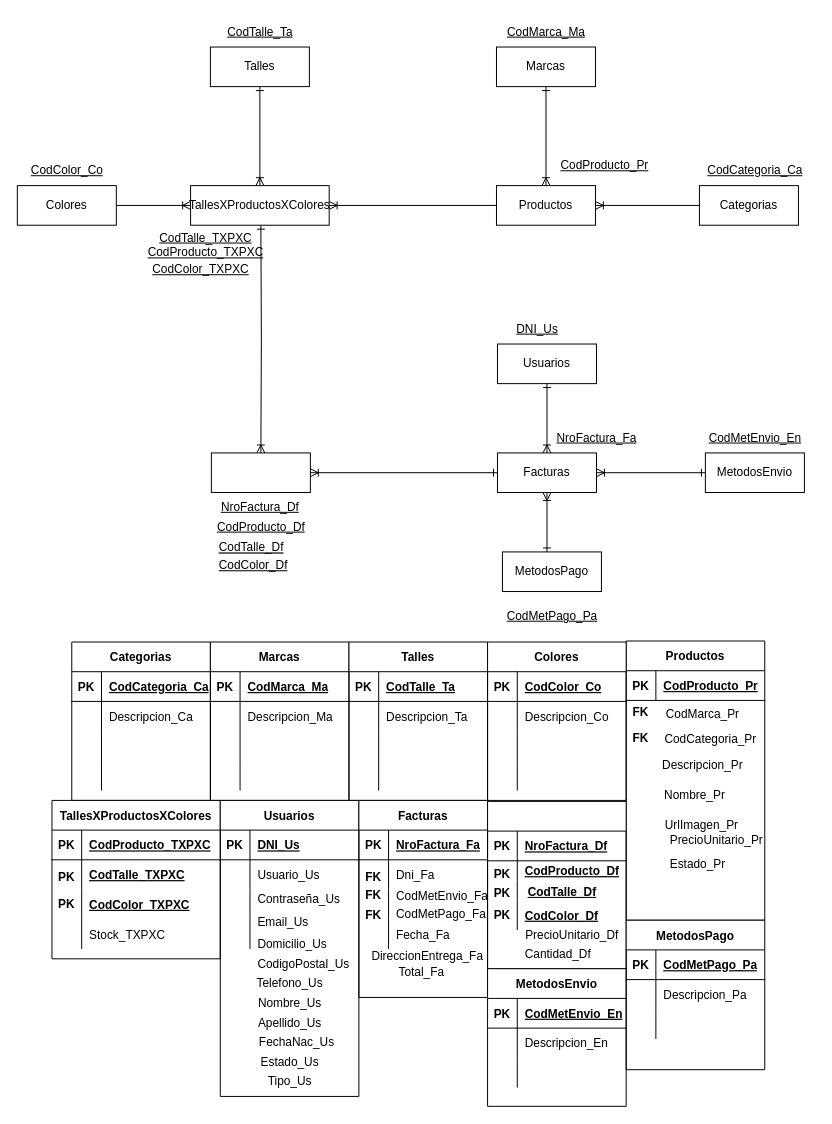
Image size: 832x1124. Some labels were removed from this diagram. The shapes that lost their labels are listed below. From the top down, each one's box as (x1, y1, x2, y2) in pixels, then its label:
(210, 452, 310, 493): DetallesFactura
(487, 800, 626, 969): DetalleFacturas
